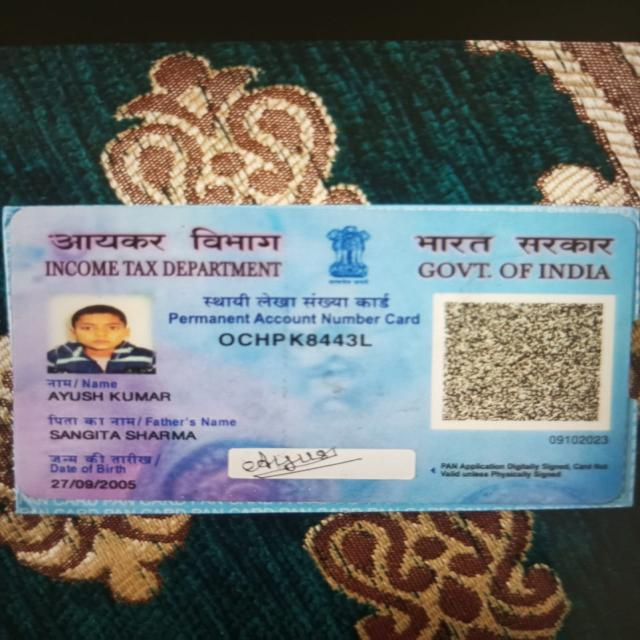pan_card: (4, 210, 634, 502)
